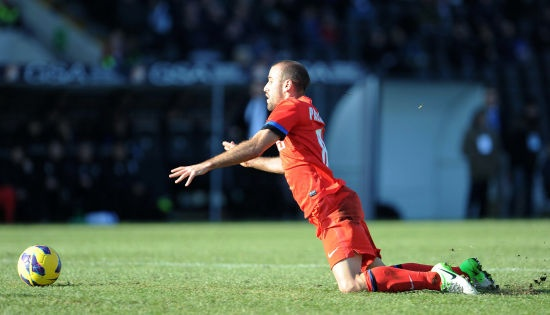falling: (160, 66, 516, 285)
